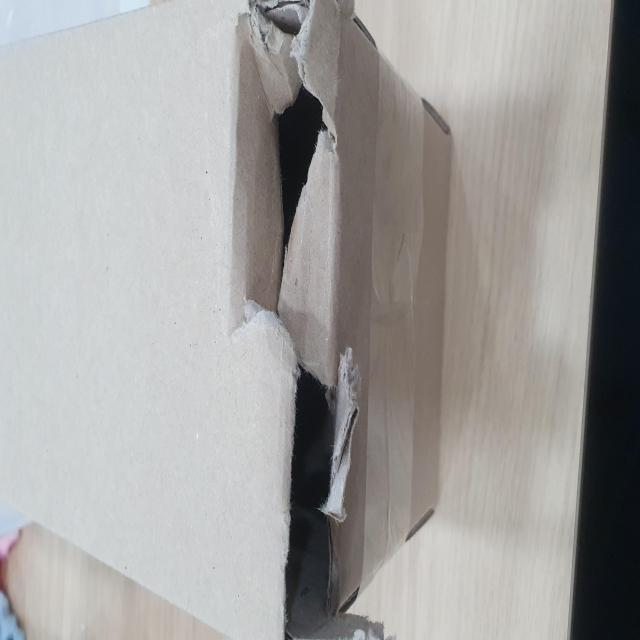damaged: (8, 396, 360, 640)
